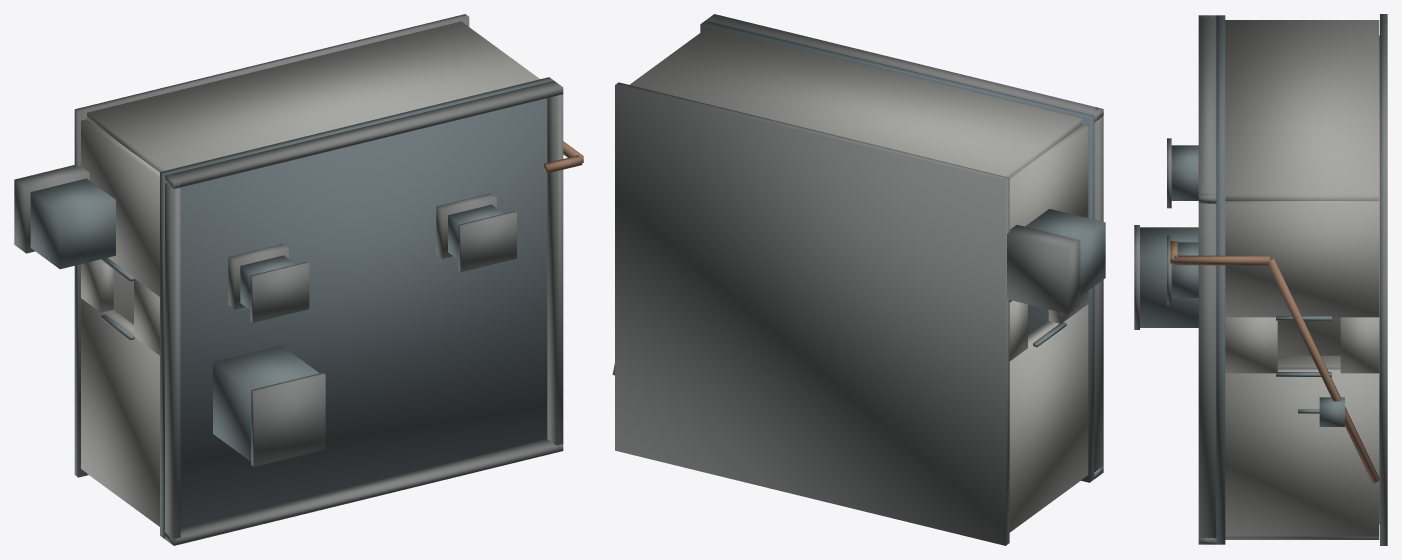
Rendered from pumpstation.glb.
3 renders of one model, left to right at view 1: azimuth 30°, elevation 25°; view 2: azimuth 150°, elevation 25°; view 3: azimuth 270°, elevation 25°, orthographic. The views are drawn at different scales.
Parts seen in each view (by area): view 1: pumpstation; view 2: pumpstation; view 3: pumpstation.
Part boxes in pixels (x1,y1,x2,y2): pumpstation: (14, 14, 583, 545); pumpstation: (612, 14, 1105, 545); pumpstation: (1134, 14, 1387, 545).
Bounding box in the file's own units: 11.29 × 8.45 × 5.51.
